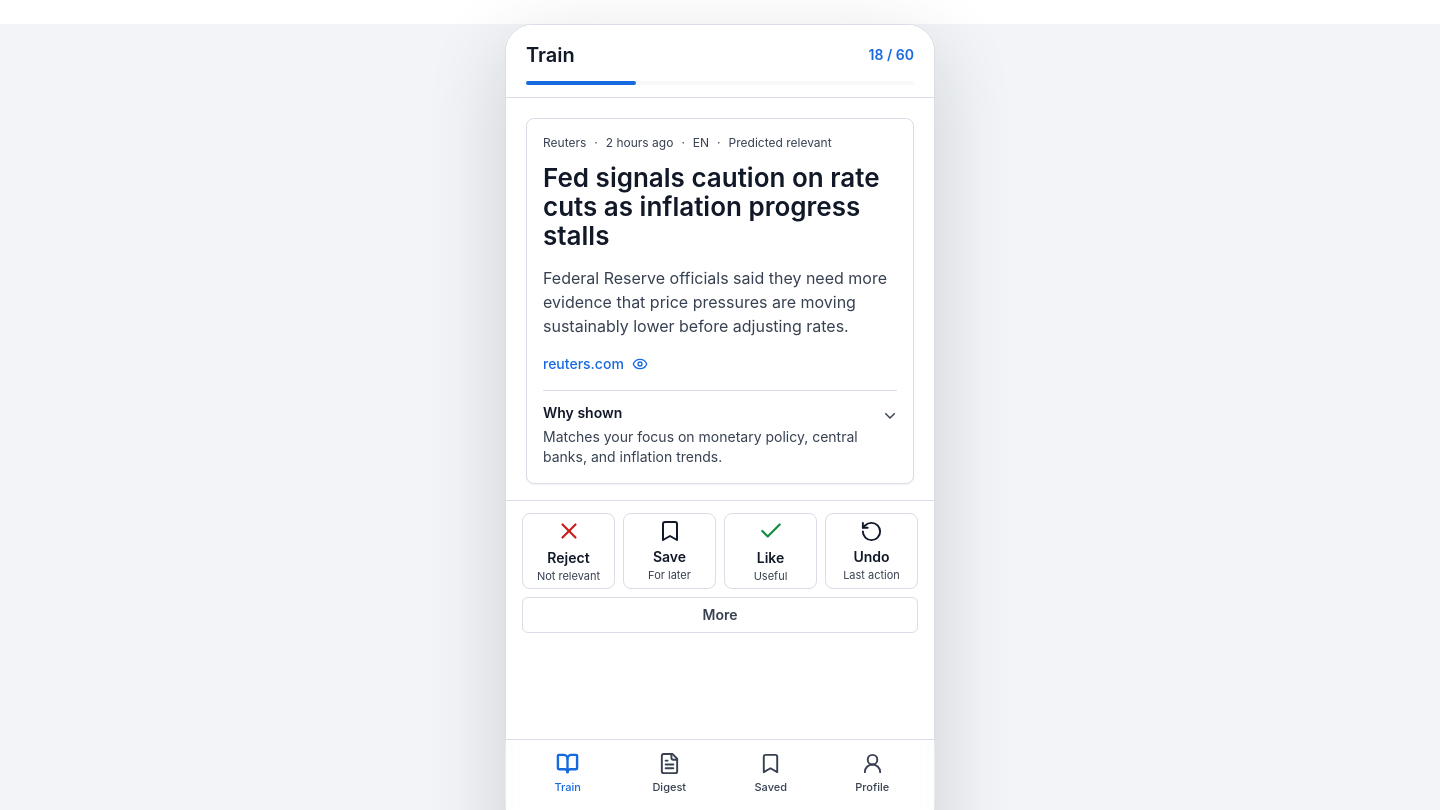
App › advances the training card before the reaction write resolves
This screenshot has width=1440, height=810.
Expected: the heading "Fed signals caution" is shown, 543,162 -> 880,251
Click the button "Like Useful".
click(770, 551)  # box 724,513 -> 817,589
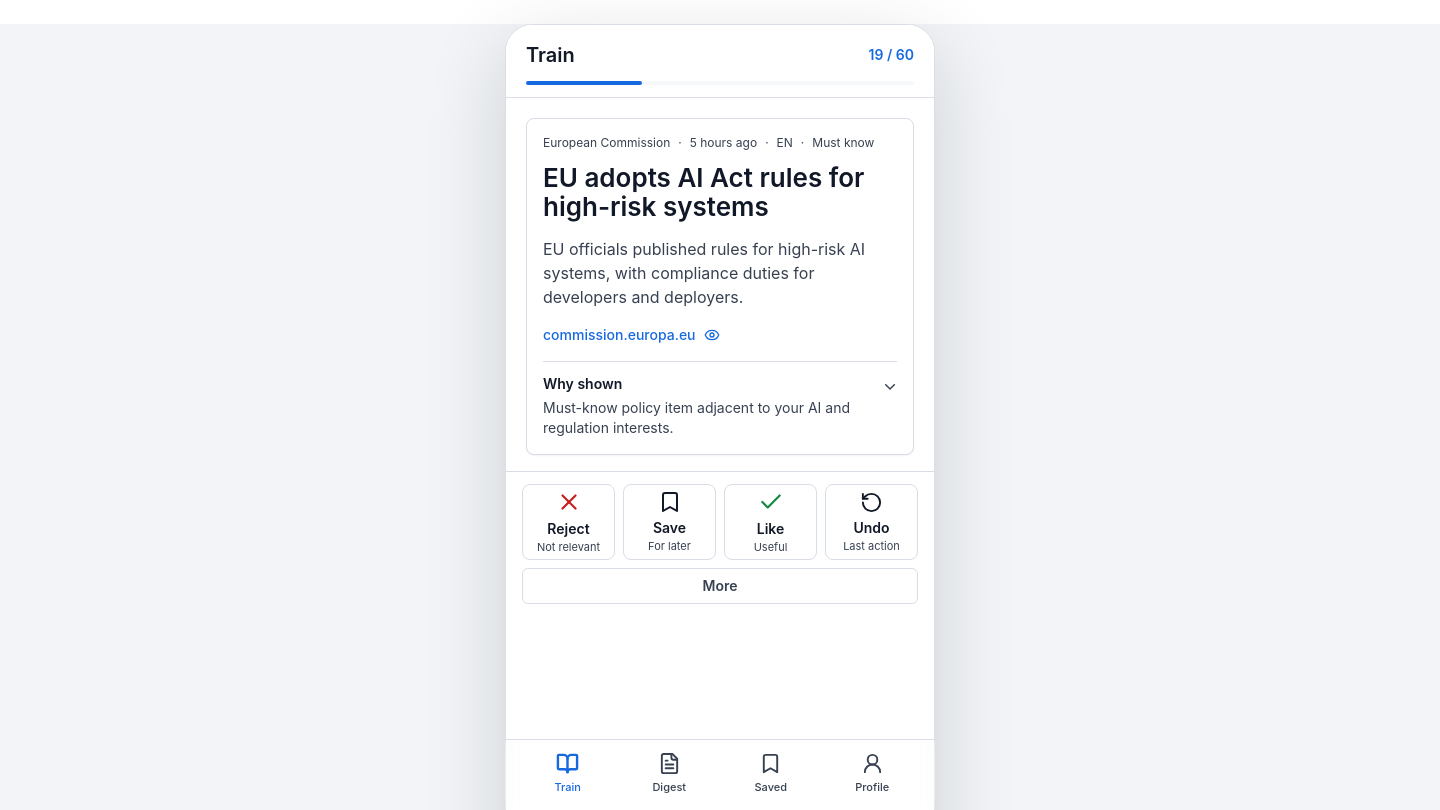
Result: the heading "EU adopts AI Act rules for high-risk systems" is shown at 543,163 -> 897,221
